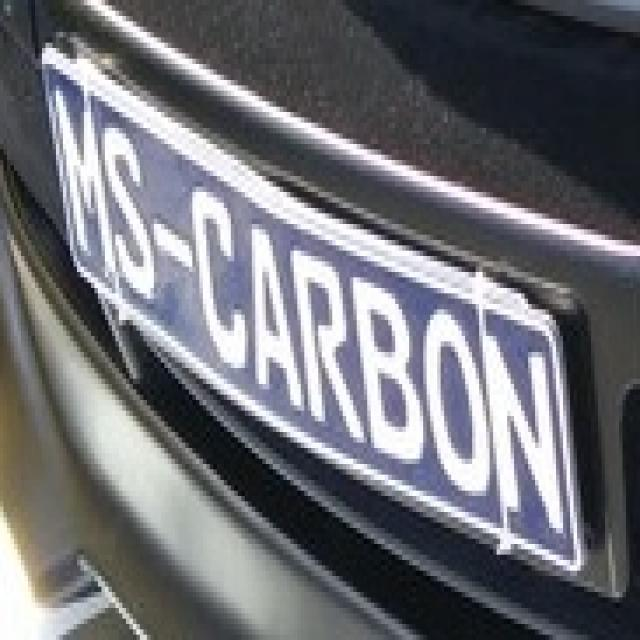licenseplate: (22, 29, 590, 592)
